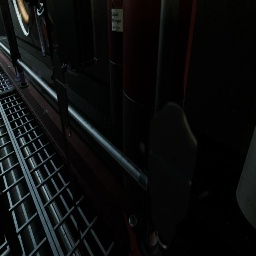0: (236, 125, 256, 230)
NitrogenTank ,: (122, 0, 198, 210), (107, 0, 123, 134)
